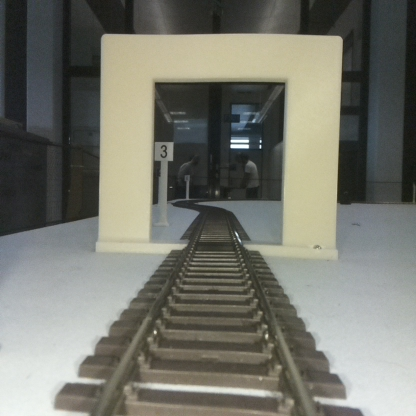white-info-3: (155, 142, 173, 225)
